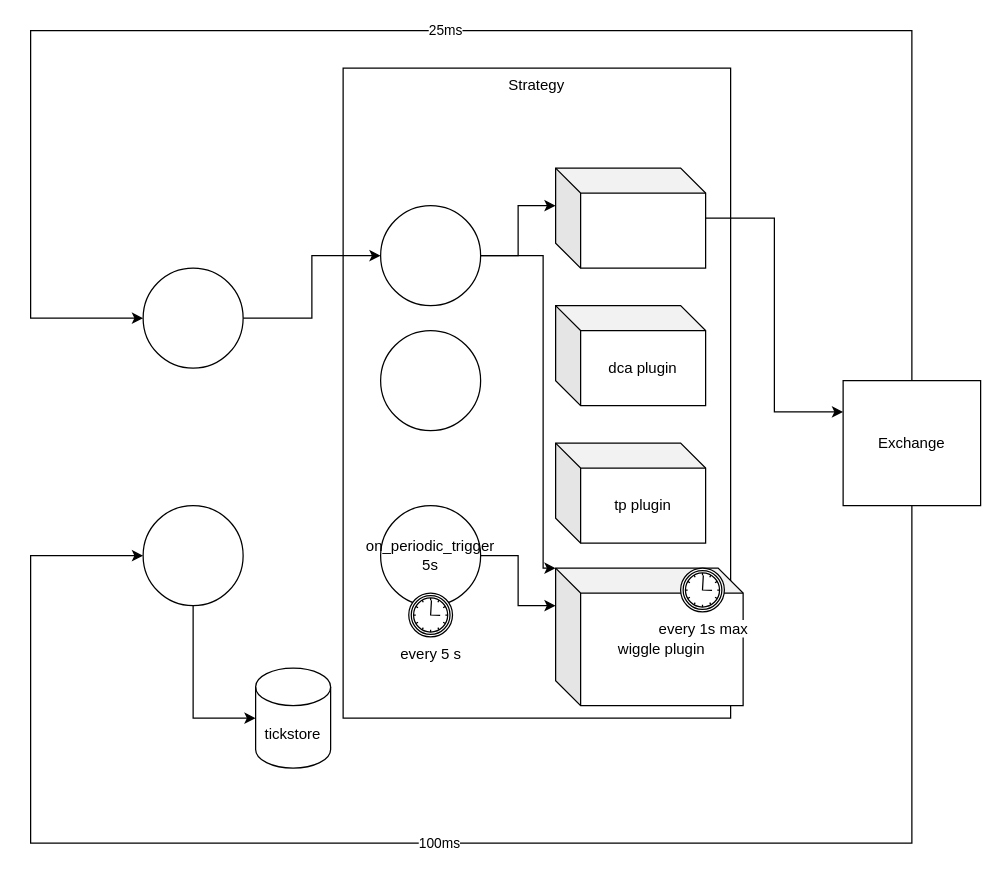
The diagram is 1003 pixels wide and 875 high, and some of its shapes have lost their labels. Here are the shapes that lost their labels. From the top down, the centre of each, then its label:
At point (630, 217): "order_executor".
At point (430, 255): "on_dca_order_filled 1x".
At point (192, 317): "Userdata websocket".
At point (430, 380): "on_periodic_check 30s".
At point (192, 555): "Trade websocket".
